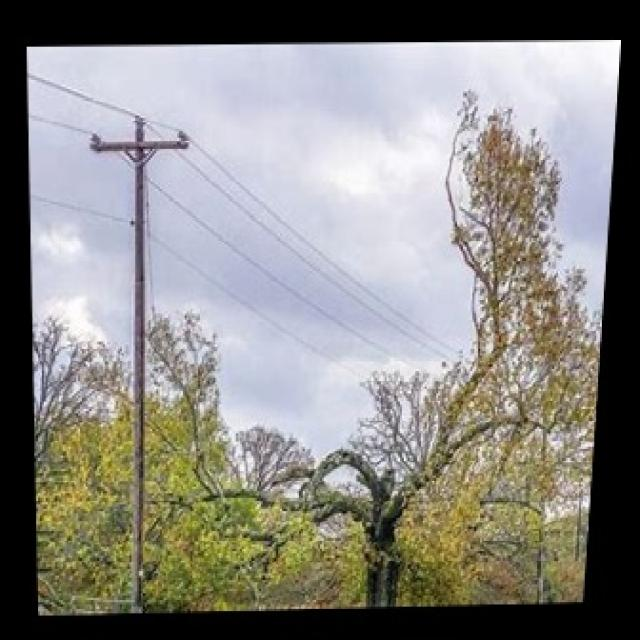utility poles: (82, 71, 214, 610)
